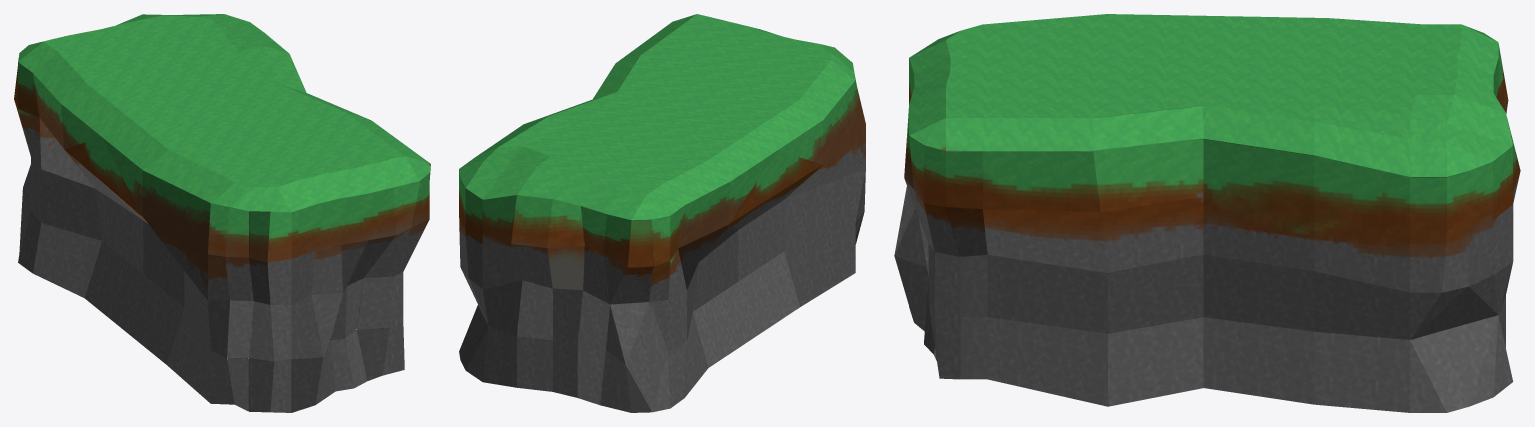
Rendered from island 3.fbx.
The picture shows the model from 3 angles, left to right: view 1: azimuth 30°, elevation 25°; view 2: azimuth 150°, elevation 25°; view 3: azimuth 270°, elevation 25°; orthographic projection. The views are drawn at different scales.
Parts seen in each view (by area): view 1: cuboid; view 2: cuboid; view 3: cuboid.
Boxes of the visible parts, x1,y1,x2,y2 form: cuboid: (14, 14, 430, 412); cuboid: (459, 14, 865, 412); cuboid: (894, 14, 1520, 412).
Size of the model in its own units: 444 by 375 by 797.
Materials: 1 (1 with a texture image).
